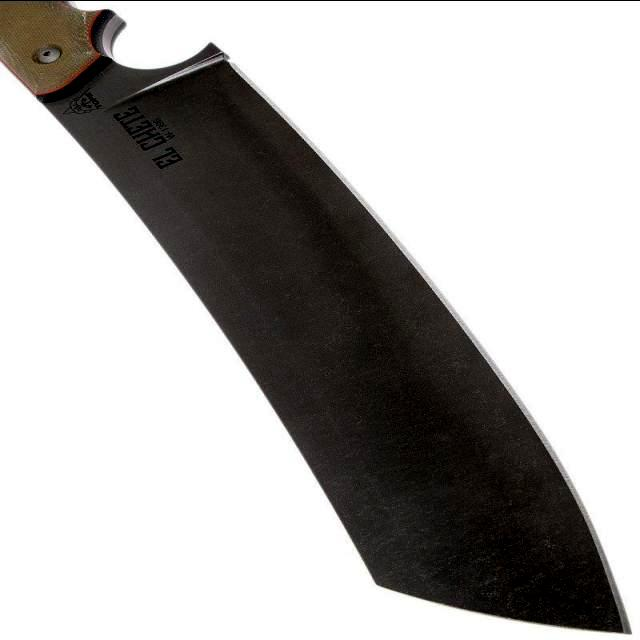long knife: (4, 16, 614, 632)
